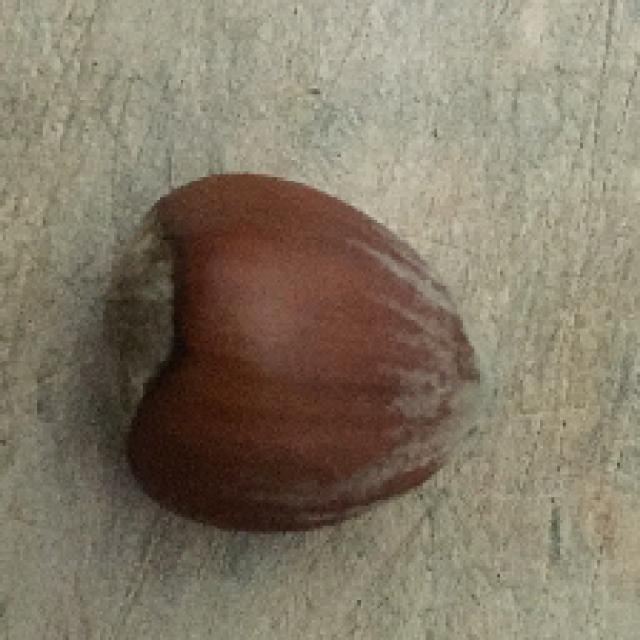QualityHazelnut: (101, 168, 494, 533)
